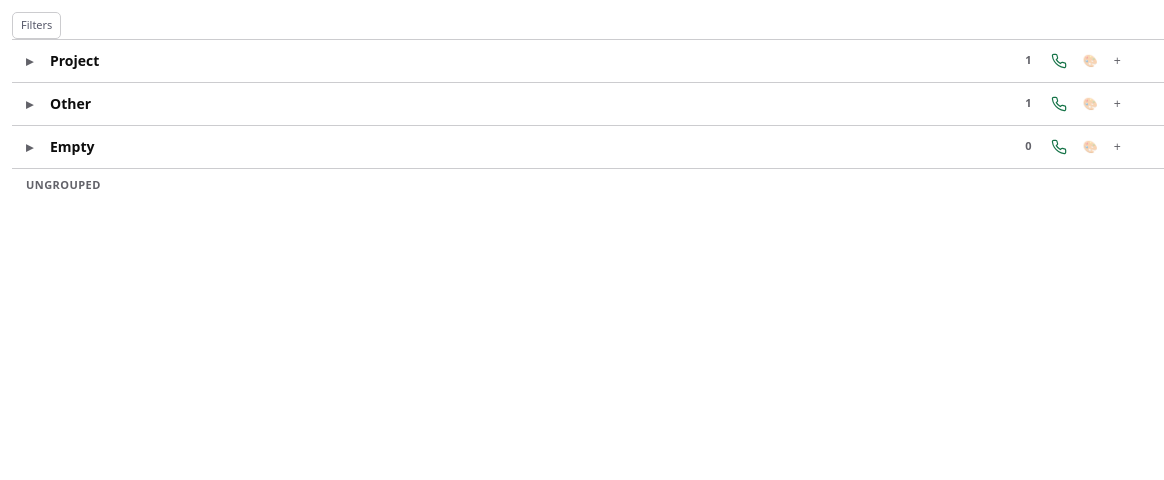
Scenario: keeps folder expansion and selection when filters flatten and clear the tree
The image size is (1164, 480).
Click the button "Filters": click(37, 25) x1=12 y1=12 x2=61 y2=38
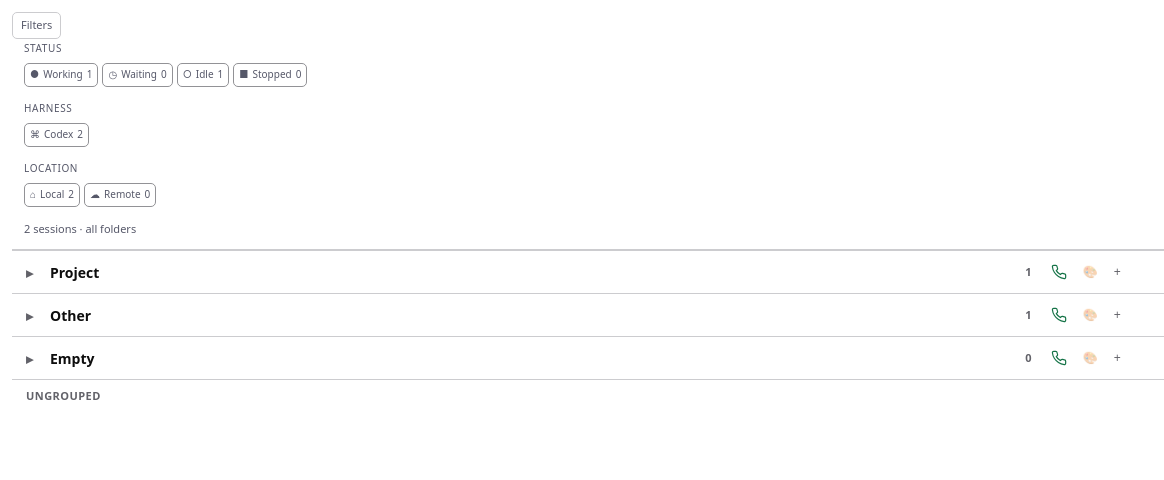
Click the button named "Expand Project": click(34, 272) x1=26 y1=262 x2=42 y2=282
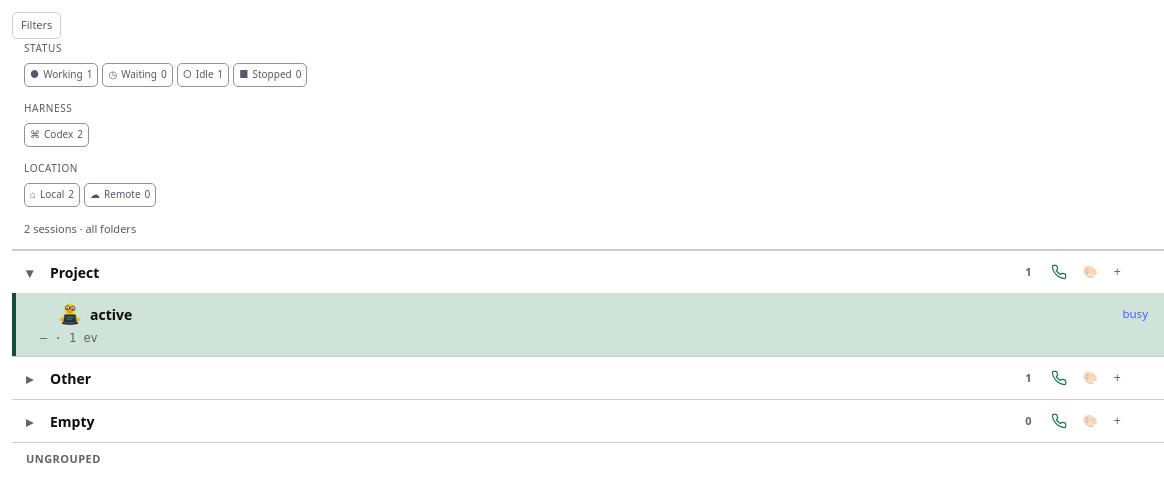
Click the button "○ Idle 1": click(203, 74) x1=177 y1=62 x2=229 y2=86
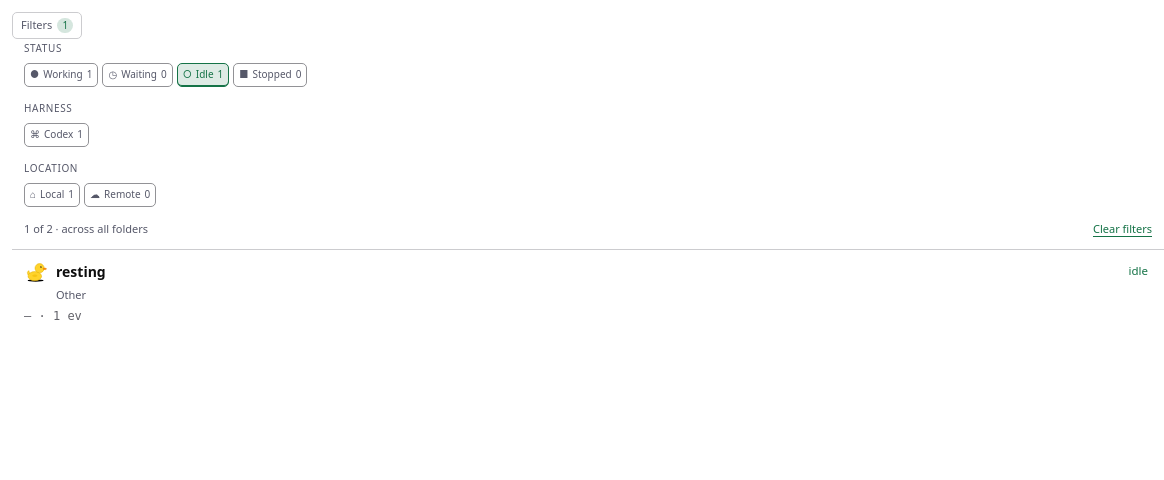
Check: the text with class "rd-row-folder" reads "Other", box x1=56 y1=287 x2=86 y2=302
Check: the text "resting" is shown, box x1=56 y1=262 x2=106 y2=280
Check: the text "active" is gone
Press Escape in the button "○ Idle 1", box x1=177 y1=62 x2=229 y2=86
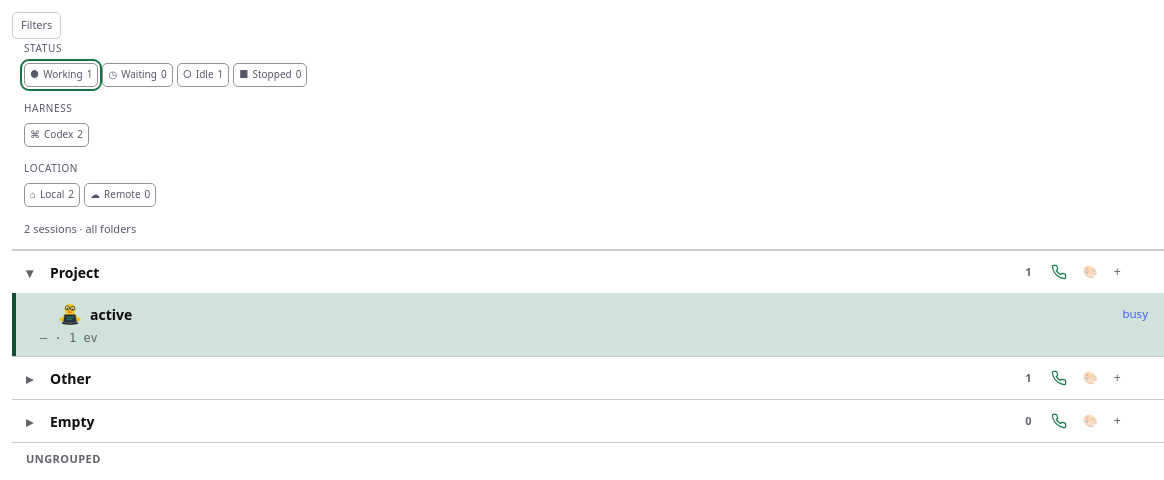
Check: the button named "Collapse Project" is shown, box x1=26 y1=262 x2=42 y2=282
Check: the button named "Expand Other" is shown, box x1=26 y1=368 x2=42 y2=388
Check: the button named "Expand Empty" is shown, box x1=26 y1=410 x2=42 y2=432
